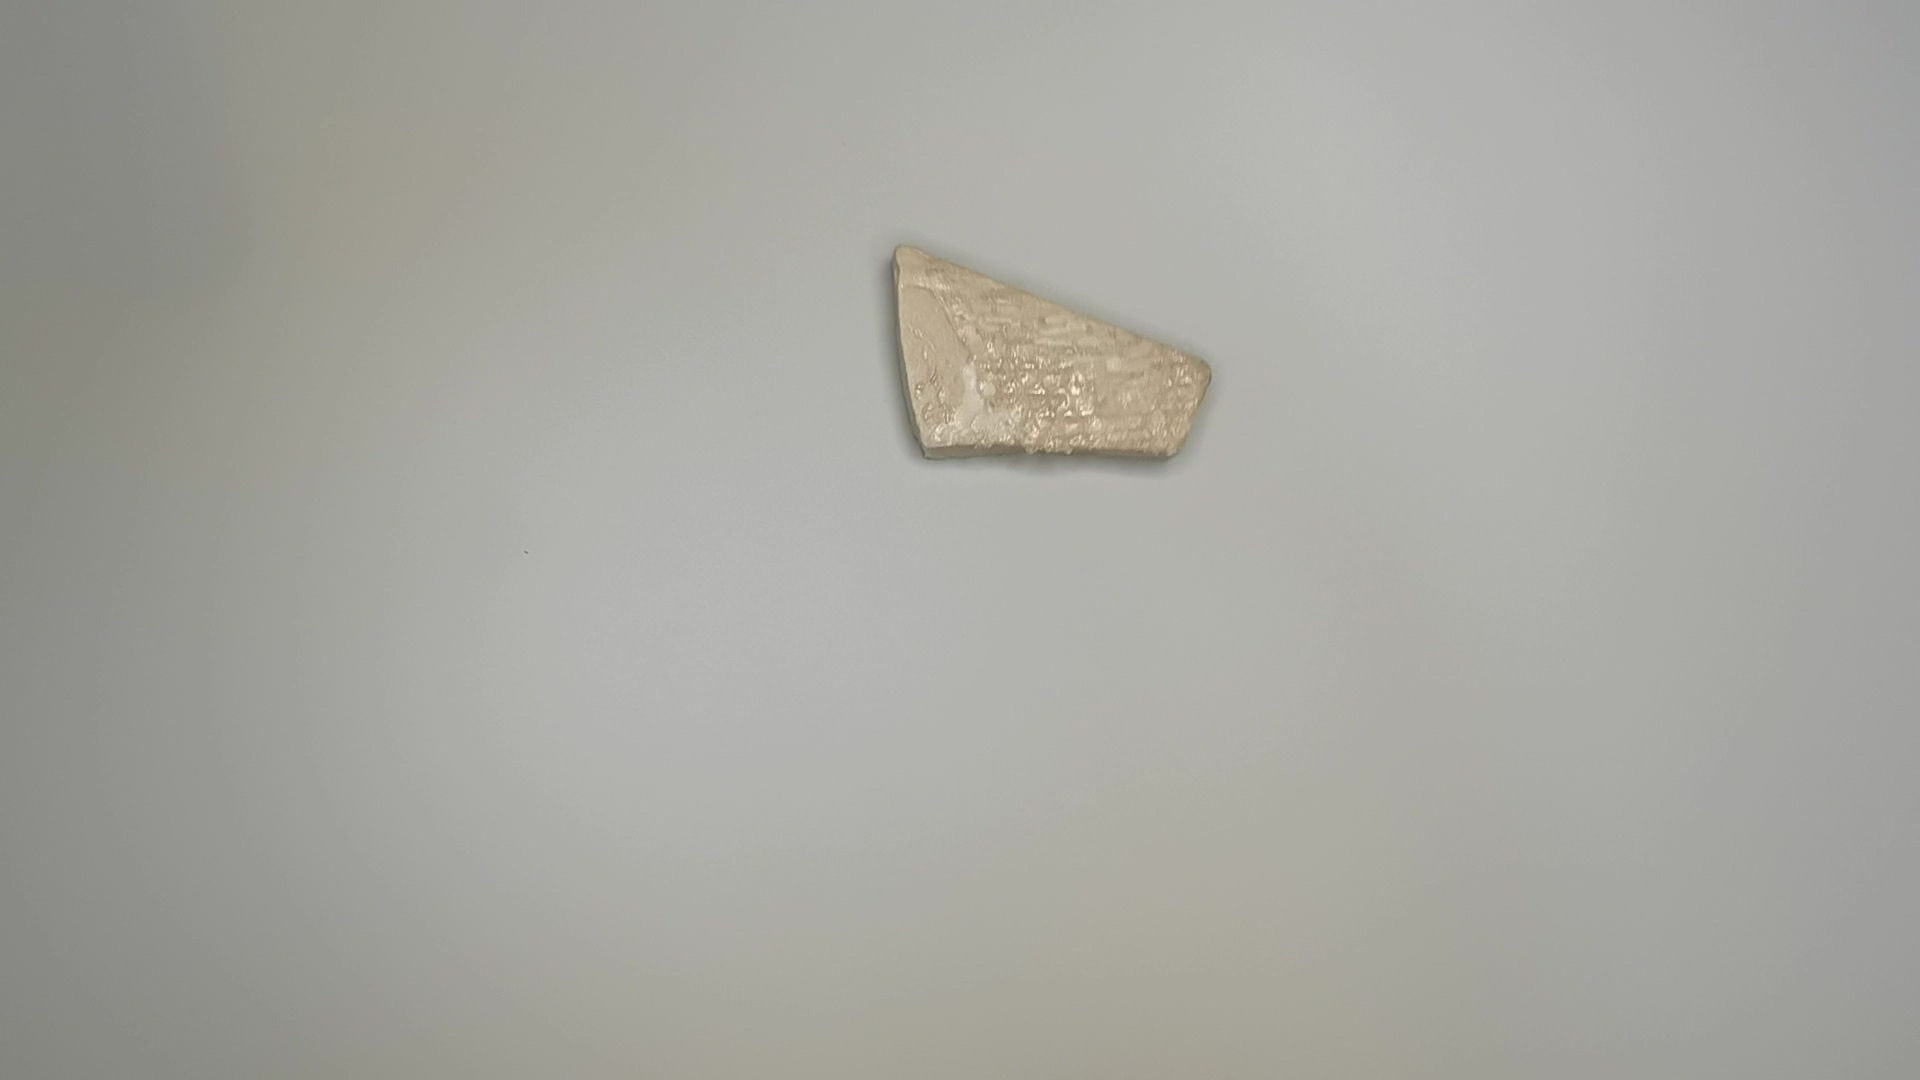ceramic: (886, 233, 1221, 476)
